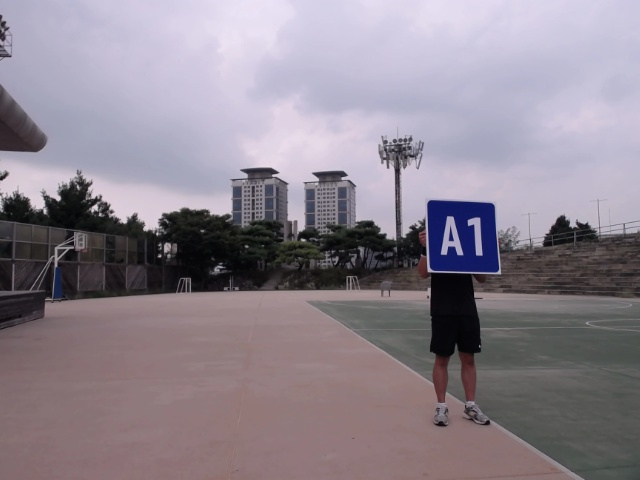delivery_a1: (426, 199, 501, 274)
